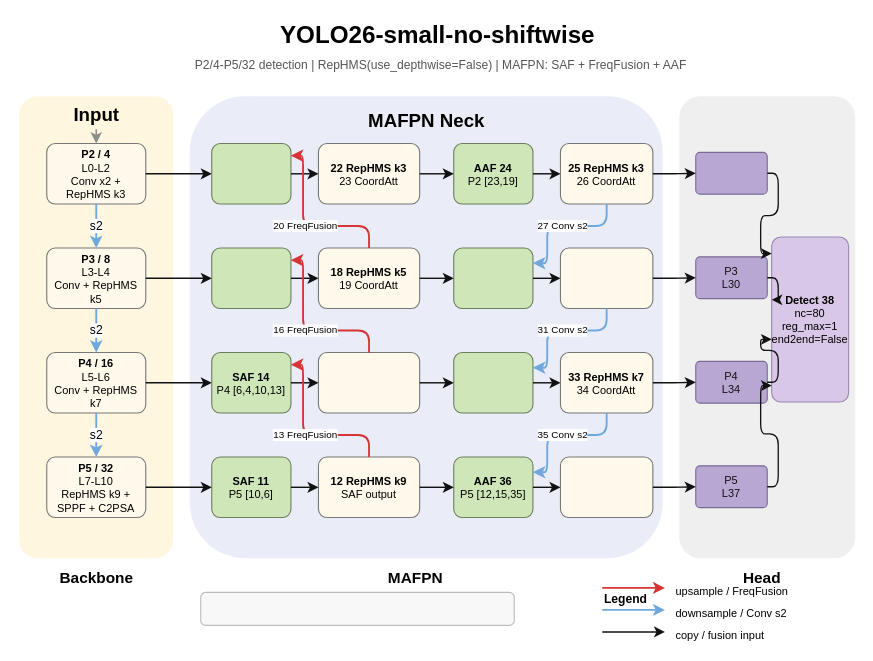
Some shapes in this 873 by 661 pixel diagram are drawn without their labels. Here are the shapes that lost their labels. From the top down, the box of each, then its label:
(211, 142, 291, 204): SAF 21 P2 [2,0,4,20]
(695, 151, 767, 194): P2 L26
(211, 247, 291, 309): SAF 17 P3 [4,2,6,16]
(453, 247, 533, 309): AAF 28 P3 [19,23,15,27]
(559, 247, 653, 309): 29 RepHMS k5 30 CoordAtt
(317, 351, 420, 413): 15 RepHMS k7 SAF output
(453, 351, 533, 413): AAF 32 P4 [15,19,12,31]
(559, 456, 653, 518): 37 RepHMS k9 P5 output
(200, 591, 514, 625): no-shiftwise: every RepHMS passes use_depthwise=False
